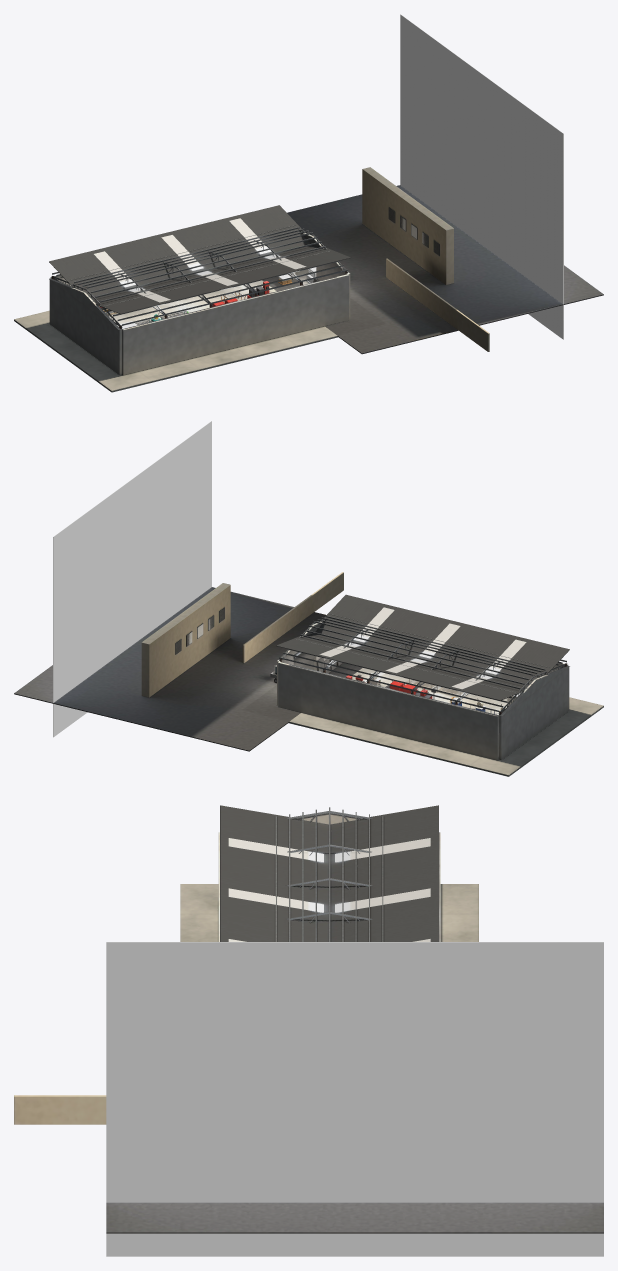
The model's file is zavod.glb.
The picture shows the model from 3 angles, top to bottom: view 1: azimuth 30°, elevation 25°; view 2: azimuth 150°, elevation 25°; view 3: azimuth 270°, elevation 25°; orthographic projection. The views are drawn at different scales.
Visible parts, largest first — view 1: yard, roof, walls, floor, hall; view 2: yard, roof, walls, floor, zoneB; view 3: yard, roof, floor, walls.
Part boxes in pixels (x1,y1,x2,y2): yard: [262, 14, 603, 354]; roof: [49, 205, 350, 328]; walls: [49, 233, 349, 375]; floor: [14, 280, 337, 392]; hall: [52, 263, 350, 328]; yard: [14, 421, 362, 751]; roof: [276, 594, 569, 714]; walls: [278, 621, 569, 760]; floor: [289, 668, 603, 776]; zoneB: [385, 679, 464, 703]; yard: [14, 942, 603, 1256]; roof: [220, 805, 438, 941]; floor: [180, 884, 478, 941]; walls: [218, 813, 440, 941].
Size of the model in its own units: 58 by 24.4 by 41.5.
20 materials, 20 textured.
